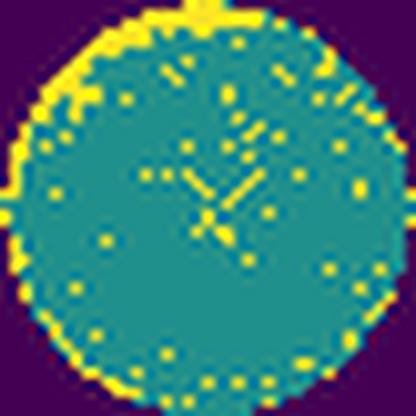Edge-Loc: (0, 0, 268, 200), (36, 313, 145, 403)
